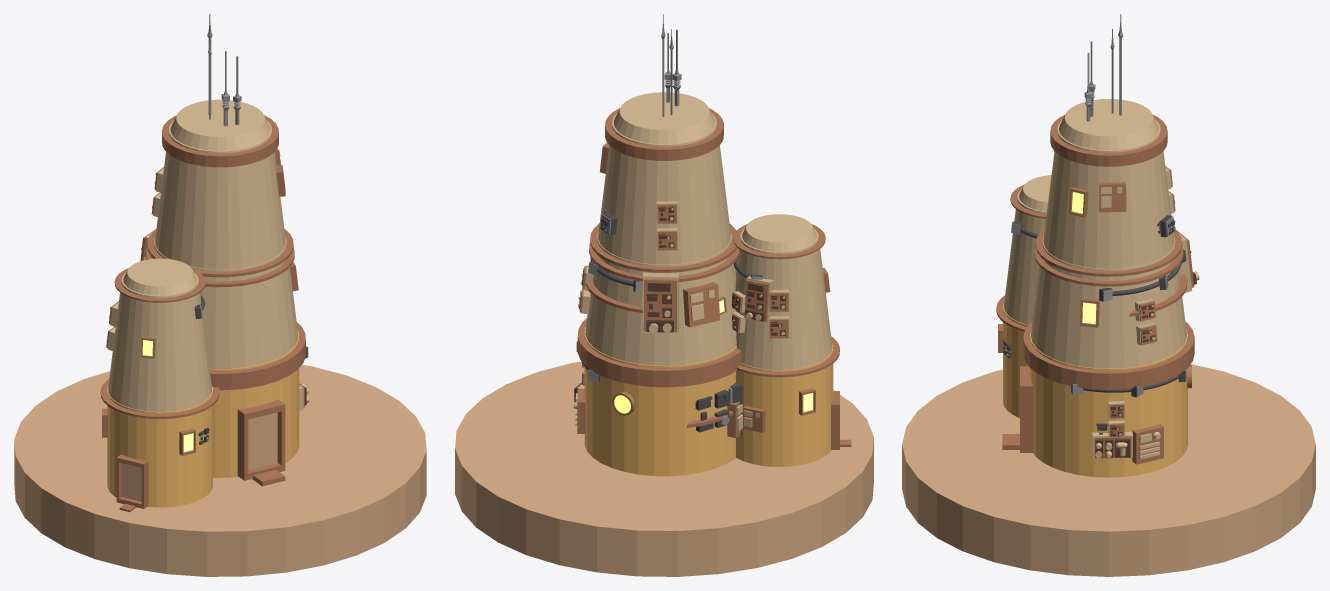
File: nomad_building_16.fbx
3 renders of one model, left to right at view 1: azimuth 30°, elevation 25°; view 2: azimuth 150°, elevation 25°; view 3: azimuth 270°, elevation 25°, orthographic.
Parts seen in each view (by area): view 1: B16_M_Foundation_foundation, B16_M_Drum2, B16_A1_Drum1, B16_M_Drum1, B16_A1_Drum0, B16_M_Drum0, B16_M_Crown_TowerBody_RoofCap, B16_A1_Crown_TowerBody_RoofCap, B16_M_Ring20_TowerTrim_BandTall, B16_M_Ring00_TowerTrim_BandTall, B16_M_Door_Door_Frame, B16_M_Door_Door_Leaf (+6 smaller); view 2: B16_M_Foundation_foundation, B16_M_Drum2, B16_M_Drum0, B16_M_Drum1, B16_A1_Drum1, B16_A1_Drum0, B16_M_Crown_TowerBody_RoofCap, B16_M_Ring00_TowerTrim_BandTall, B16_A1_Crown_TowerBody_RoofCap, B16_M_Ring20_TowerTrim_BandTall, B16_M_Ring10_TowerTrim_BandThin, B16_M_Gear9_PanelBox_Body (+4 smaller); view 3: B16_M_Foundation_foundation, B16_M_Drum2, B16_M_Drum1, B16_M_Drum0, B16_M_Crown_TowerBody_RoofCap, B16_M_Ring00_TowerTrim_BandTall, B16_A1_Drum1, B16_M_Ring20_TowerTrim_BandTall, B16_A1_Drum0, B16_M_Ring10_TowerTrim_BandThin, B16_M_Ring11_TowerTrim_BandThin, B16_M_Door_Door_Frame (+3 smaller).
Part boxes in pixels (<box>): B16_M_Foundation_foundation: <box>14,364,426,576</box>; B16_M_Drum2: <box>155,120,285,269</box>; B16_A1_Drum1: <box>108,272,212,411</box>; B16_M_Drum1: <box>154,237,298,368</box>; B16_A1_Drum0: <box>107,385,212,507</box>; B16_M_Drum0: <box>209,330,299,477</box>; B16_M_Crown_TowerBody_RoofCap: <box>170,99,270,150</box>; B16_A1_Crown_TowerBody_RoofCap: <box>123,258,196,295</box>; B16_M_Ring20_TowerTrim_BandTall: <box>162,115,278,167</box>; B16_M_Ring00_TowerTrim_BandTall: <box>210,322,305,390</box>; B16_M_Door_Door_Frame: <box>237,399,285,480</box>; B16_M_Door_Door_Leaf: <box>248,412,277,469</box>; B16_M_Foundation_foundation: <box>455,361,873,576</box>; B16_M_Drum2: <box>598,113,730,264</box>; B16_M_Drum0: <box>584,327,736,476</box>; B16_M_Drum1: <box>585,231,736,365</box>; B16_A1_Drum1: <box>735,228,832,369</box>; B16_A1_Drum0: <box>736,343,833,466</box>; B16_M_Crown_TowerBody_RoofCap: <box>614,92,714,144</box>; B16_M_Ring00_TowerTrim_BandTall: <box>577,318,741,387</box>; B16_A1_Crown_TowerBody_RoofCap: <box>742,214,816,251</box>; B16_M_Ring20_TowerTrim_BandTall: <box>605,108,723,160</box>; B16_M_Ring10_TowerTrim_BandThin: <box>590,223,736,272</box>; B16_M_Gear9_PanelBox_Body: <box>683,282,719,327</box>; B16_M_Foundation_foundation: <box>902,364,1315,576</box>; B16_M_Drum2: <box>1043,120,1174,268</box>; B16_M_Drum1: <box>1031,236,1186,368</box>; B16_M_Drum0: <box>1030,329,1187,477</box>; B16_M_Crown_TowerBody_RoofCap: <box>1059,99,1158,150</box>; B16_M_Ring00_TowerTrim_BandTall: <box>1023,321,1194,389</box>; B16_A1_Drum1: <box>1003,189,1046,324</box>; B16_M_Ring20_TowerTrim_BandTall: <box>1050,115,1167,166</box>; B16_A1_Drum0: <box>1003,302,1028,417</box>; B16_M_Ring10_TowerTrim_BandThin: <box>1035,228,1182,276</box>; B16_M_Ring11_TowerTrim_BandThin: <box>1034,247,1183,286</box>; B16_M_Door_Door_Frame: <box>1020,366,1033,452</box>.
Bounding box in the file's own units: 431 × 543 × 431.
